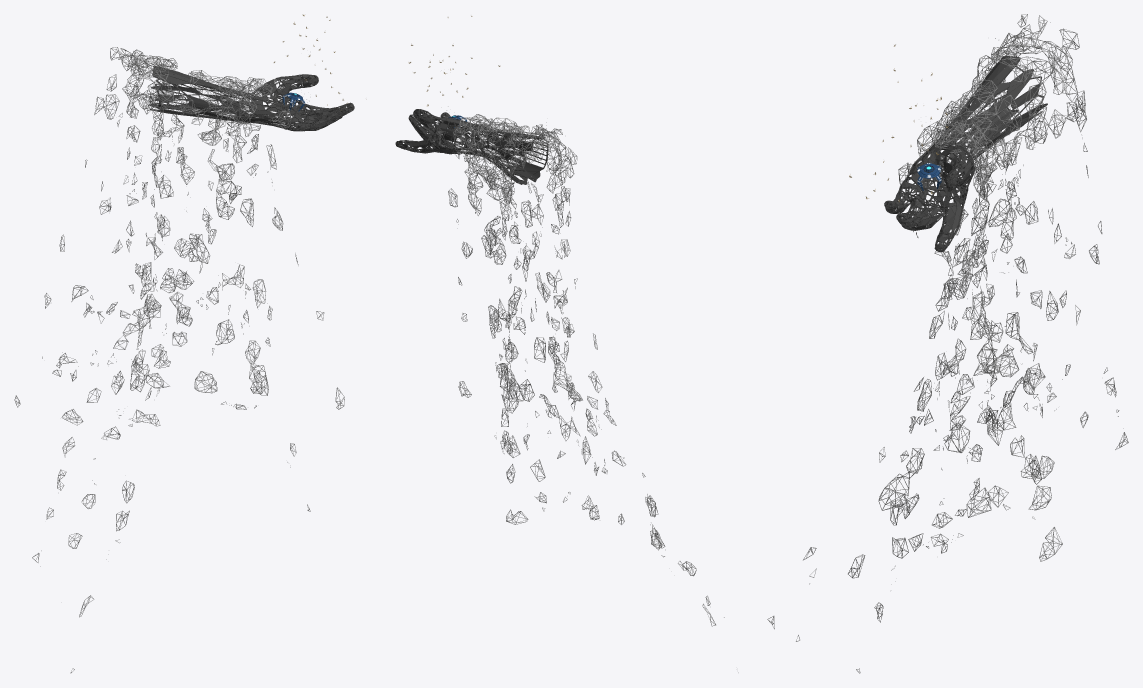
Rendered from NavigationHandd.glb.
The picture shows the model from 3 angles, left to right: view 1: azimuth 30°, elevation 25°; view 2: azimuth 150°, elevation 25°; view 3: azimuth 270°, elevation 25°; orthographic projection. The views are drawn at different scales.
Parts seen in each view (by area): view 1: Hand_24; view 2: Hand_24; view 3: Hand_24.
Boxes of the visible parts, left/top/right/bottom form: Hand_24: left=14, top=47, right=354, bottom=673; Hand_24: left=395, top=109, right=738, bottom=672; Hand_24: left=767, top=14, right=1128, bottom=673.
Bounding box in the file's own units: 18.13 × 33.19 × 13.74.
Materials: 25 (12 with a texture image).
